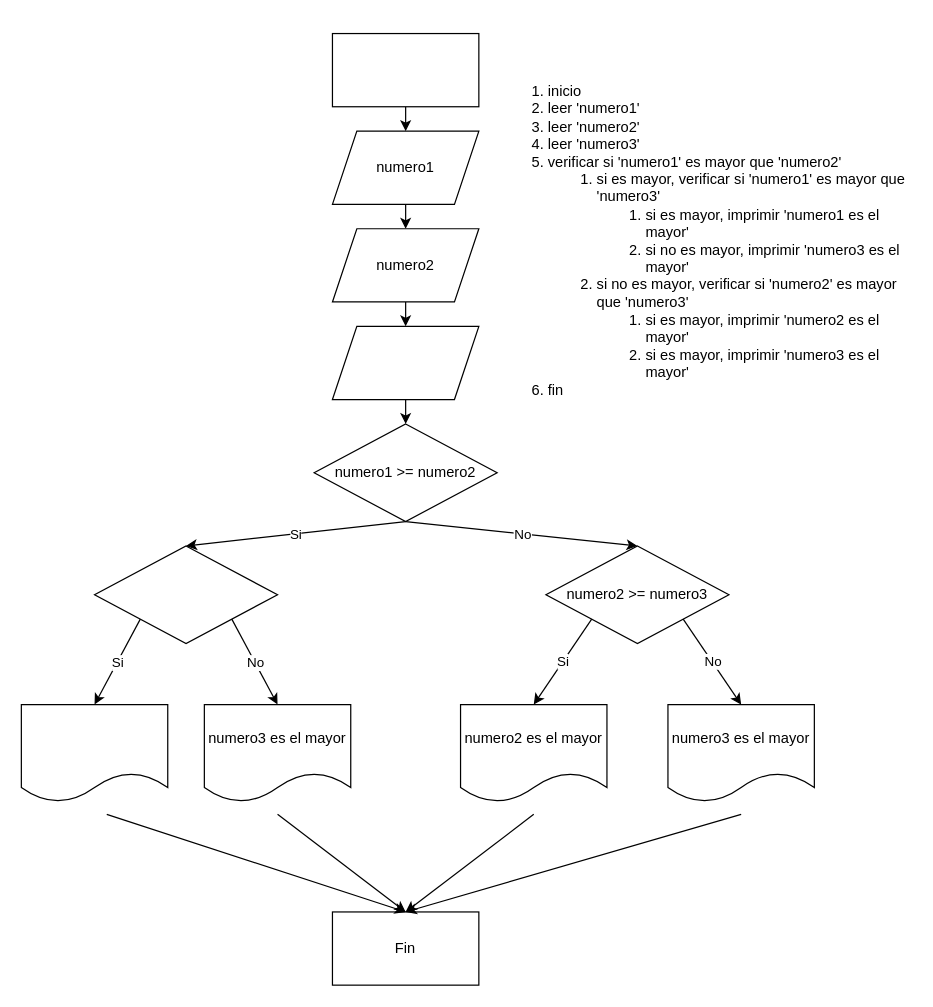
Some shapes in this 933 by 1007 pixel diagram are drawn without their labels. The shapes that lost their labels are listed below. From the top down, each one's centre as x and y in pixels, then its label:
At (405,69): "Inicio".
At (405,362): "numero3".
At (185,594): "numero1 >= numero3".
At (94,752): "numero1 es el mayor".
